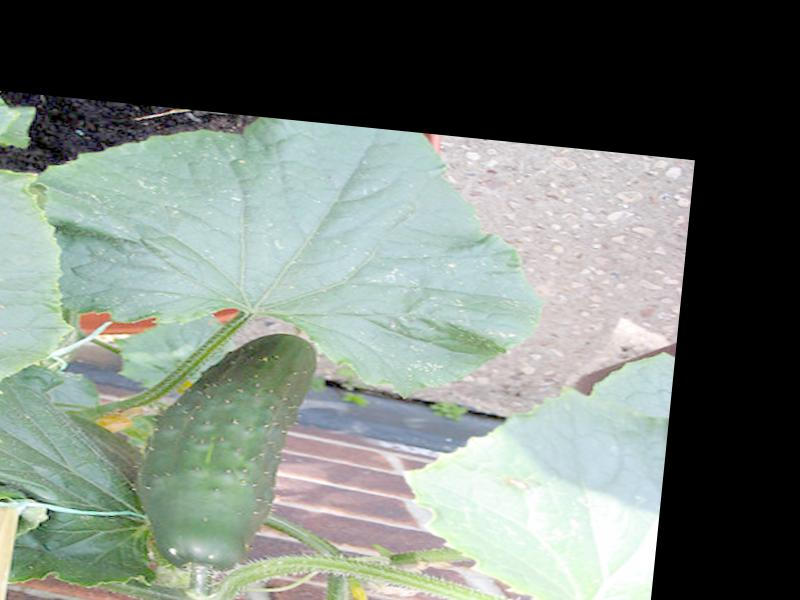Cucumber: (131, 320, 323, 579)
